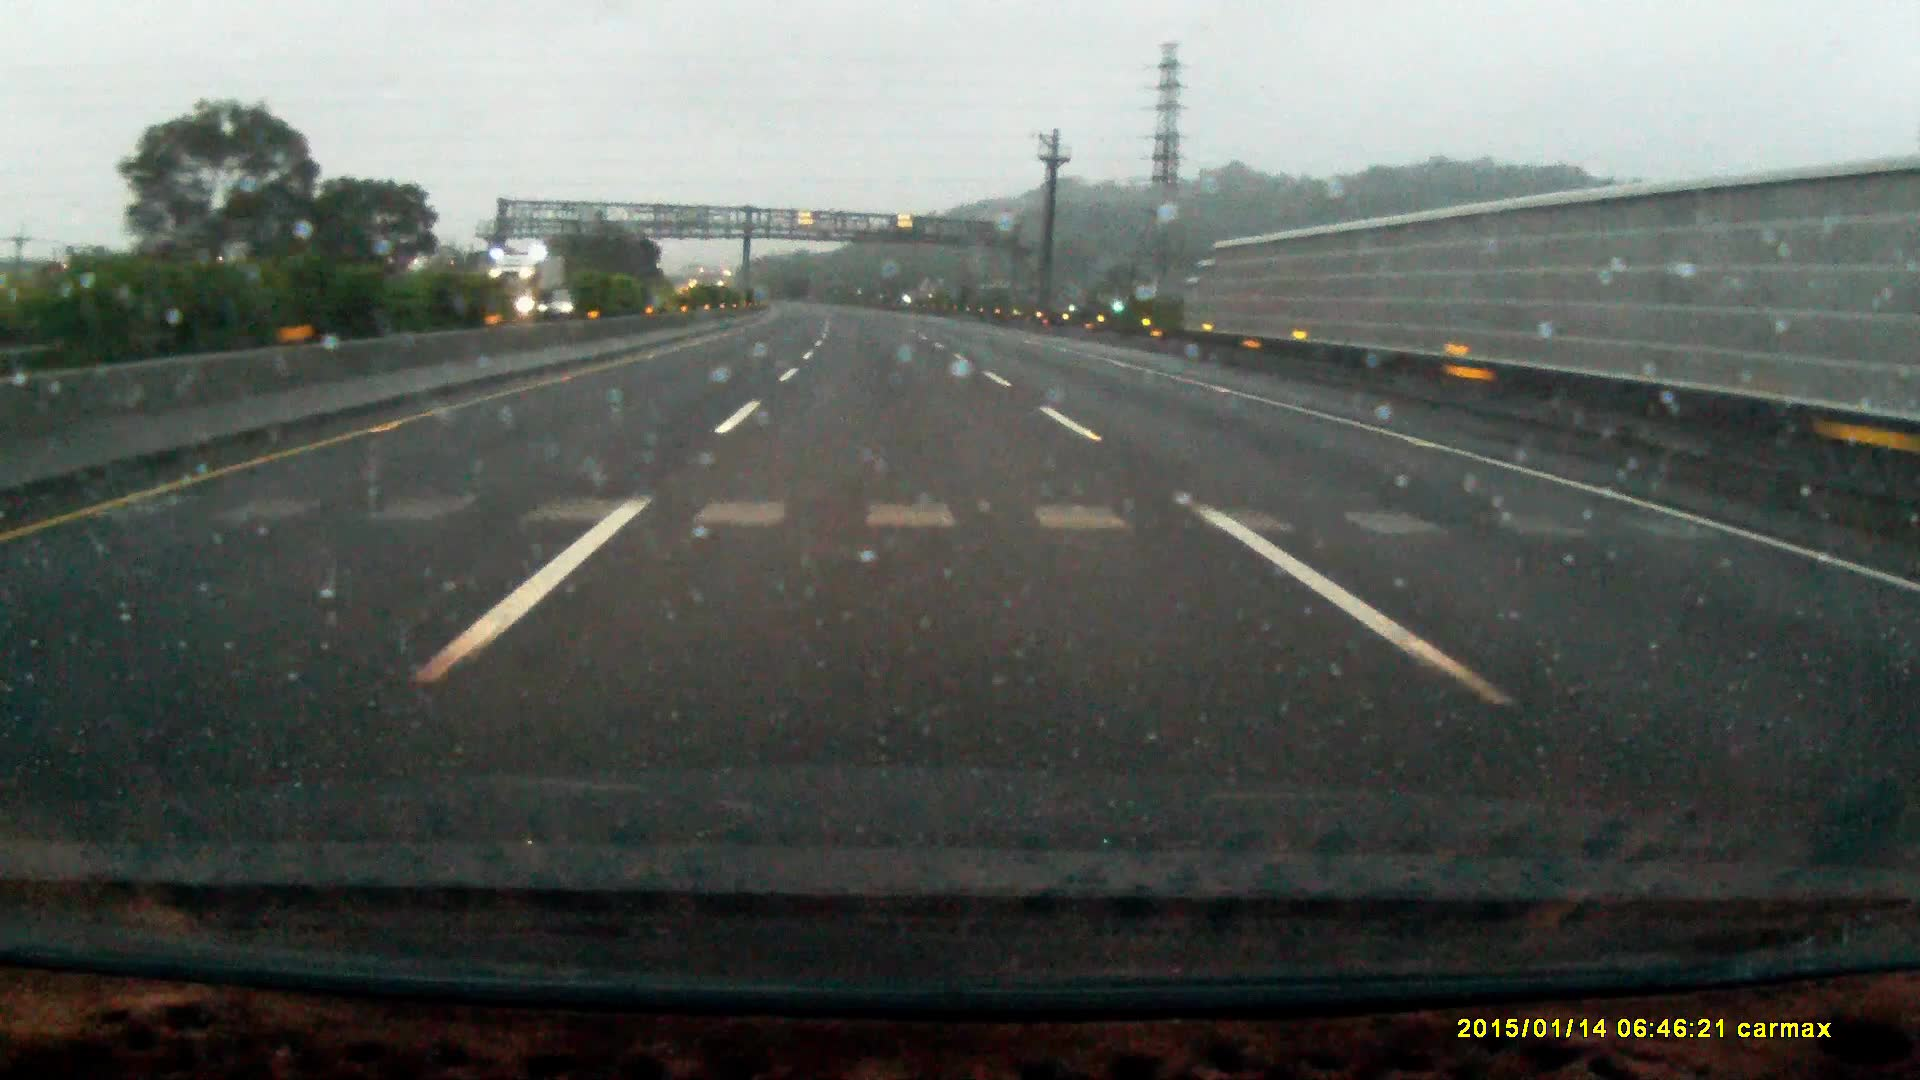vehicle: (489, 253, 570, 320), (534, 287, 589, 322)
